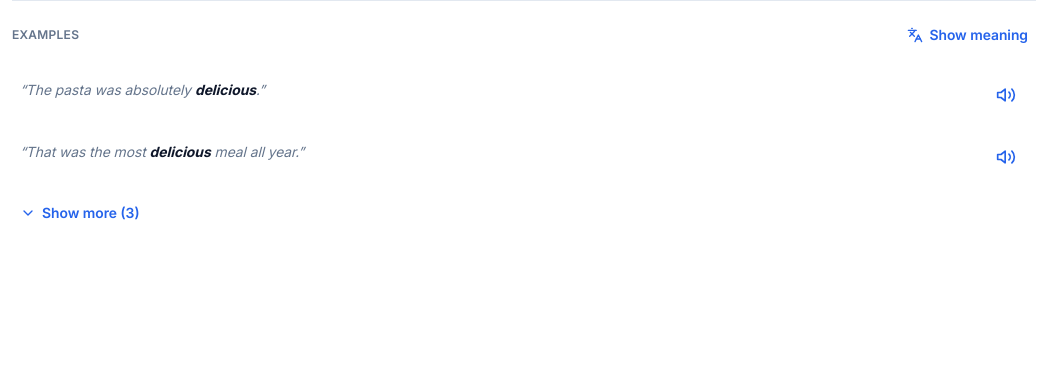
Test: ExampleSentences › shows the first two and reveals the rest on request
Check: the text "“The pasta was absolutely delicious.”" is shown, box [20, 79, 265, 102]
Check: the text "Everything on the menu" is not shown
Click the button "Show more (3)" at (80, 213), box [12, 191, 148, 235]
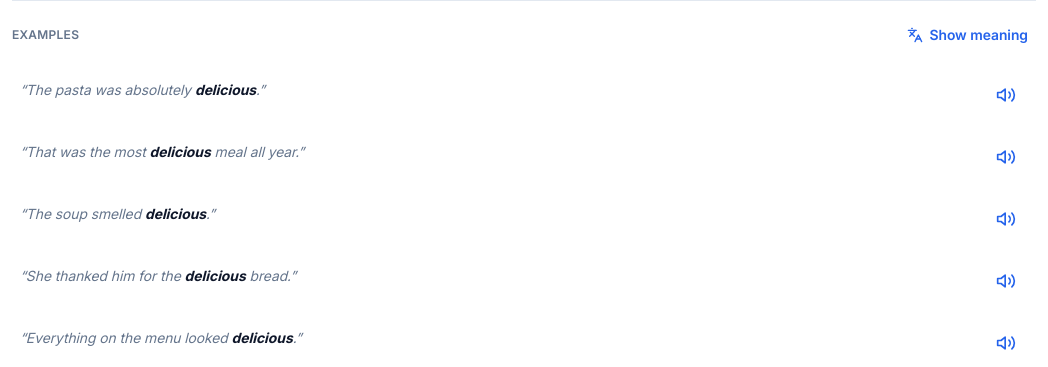
Check: the text "“Everything on the menu looked delicious.”" is shown, box [20, 327, 302, 350]
